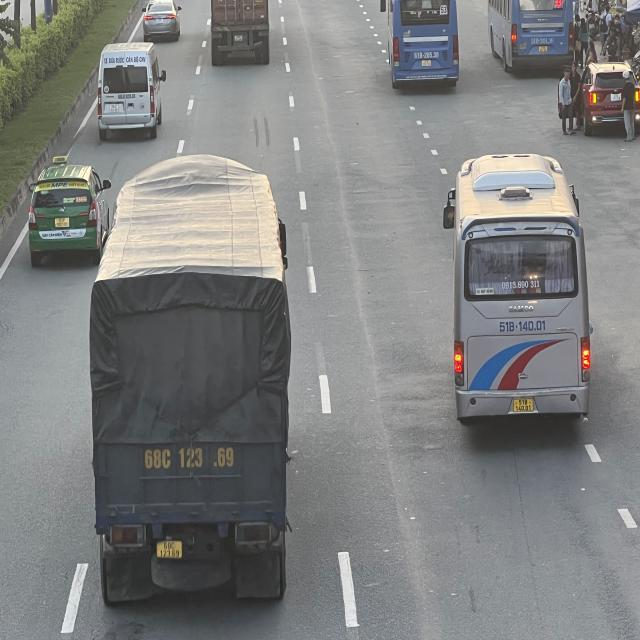car: (26, 161, 109, 264), (141, 0, 180, 41)
coach: (450, 153, 596, 427), (382, 0, 459, 86), (488, 0, 574, 68)
container: (206, 0, 270, 60)
truck: (86, 159, 289, 610)
van: (100, 42, 168, 137)
